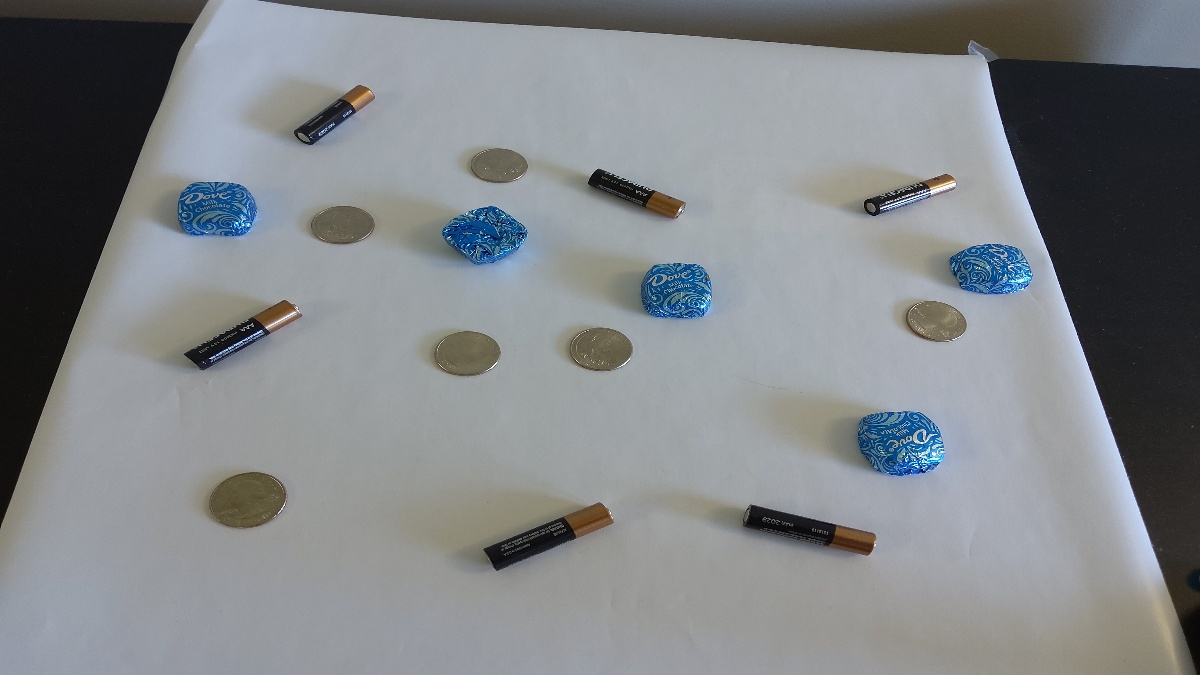battery: (476, 480, 630, 580), (724, 496, 893, 566), (176, 290, 306, 371), (571, 156, 696, 231), (287, 72, 381, 147), (852, 164, 969, 219)
chocolate_blue: (853, 401, 949, 479), (437, 197, 532, 272), (174, 174, 260, 242), (943, 239, 1038, 299), (638, 254, 716, 320)
coin_quarter: (204, 463, 293, 531), (892, 288, 980, 351), (305, 195, 376, 255), (431, 323, 502, 382), (569, 320, 640, 379), (469, 142, 537, 192)
